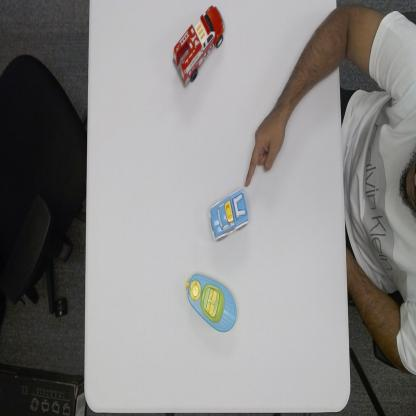Arm: (282, 9, 339, 131)
Boat: (183, 270, 239, 334)
Car: (208, 189, 250, 245)
Firetruck: (172, 3, 226, 89)
Hand: (245, 108, 284, 188)
